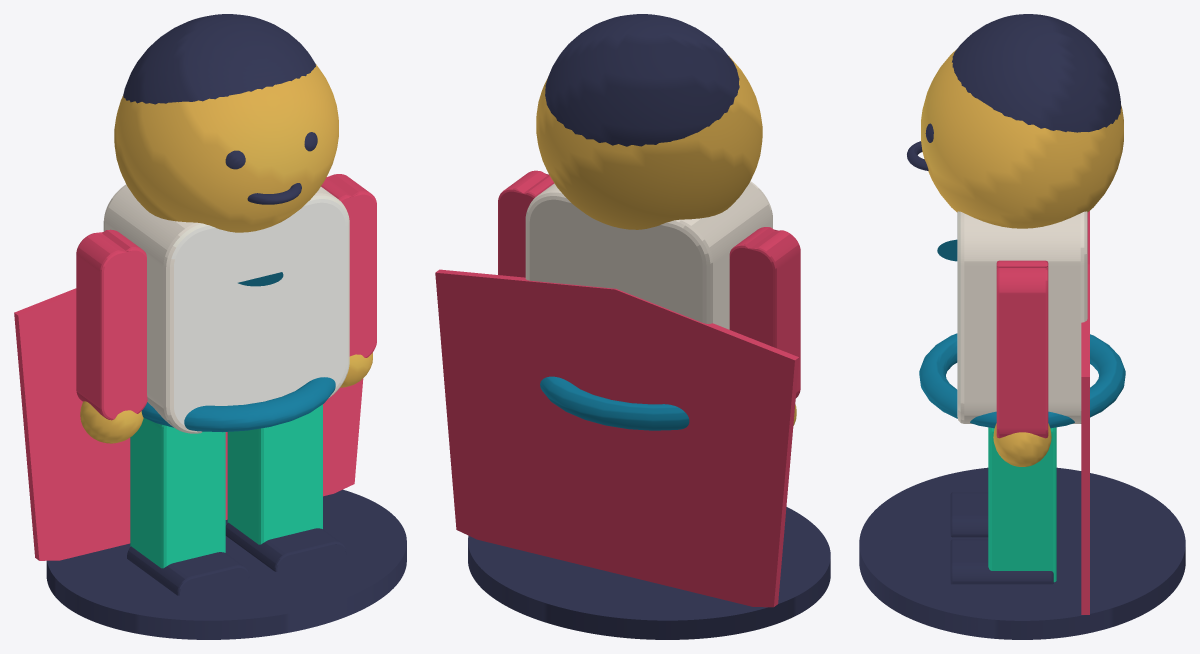
3 views of the same model, side by side, from view 1: azimuth 30°, elevation 25°; view 2: azimuth 150°, elevation 25°; view 3: azimuth 270°, elevation 25° (orthographic).
Parts seen in each view (by area): view 1: card_0689; view 2: card_0689; view 3: card_0689.
Part boxes in pixels (x1,y1,x2,y2): card_0689: (14, 14, 406, 639); card_0689: (435, 14, 830, 639); card_0689: (859, 14, 1185, 639).
Bounding box in the file's own units: 0.6739 × 1 × 0.5381.
